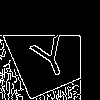Y: (25, 25, 74, 81)
